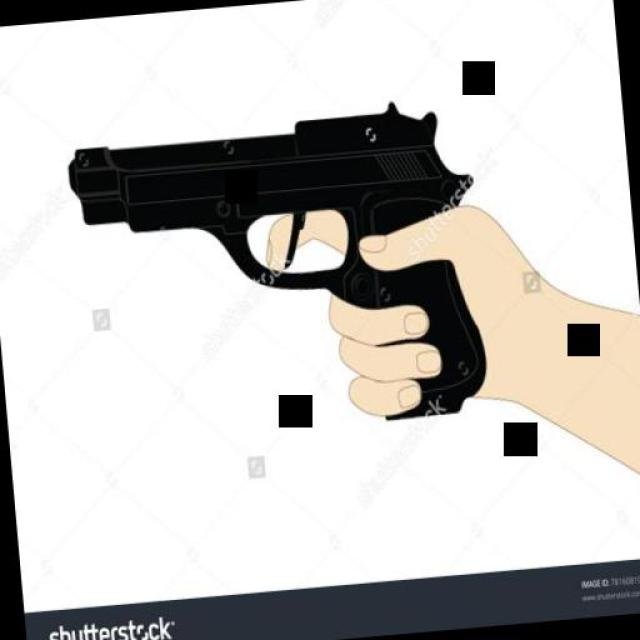gun: (61, 95, 492, 444)
